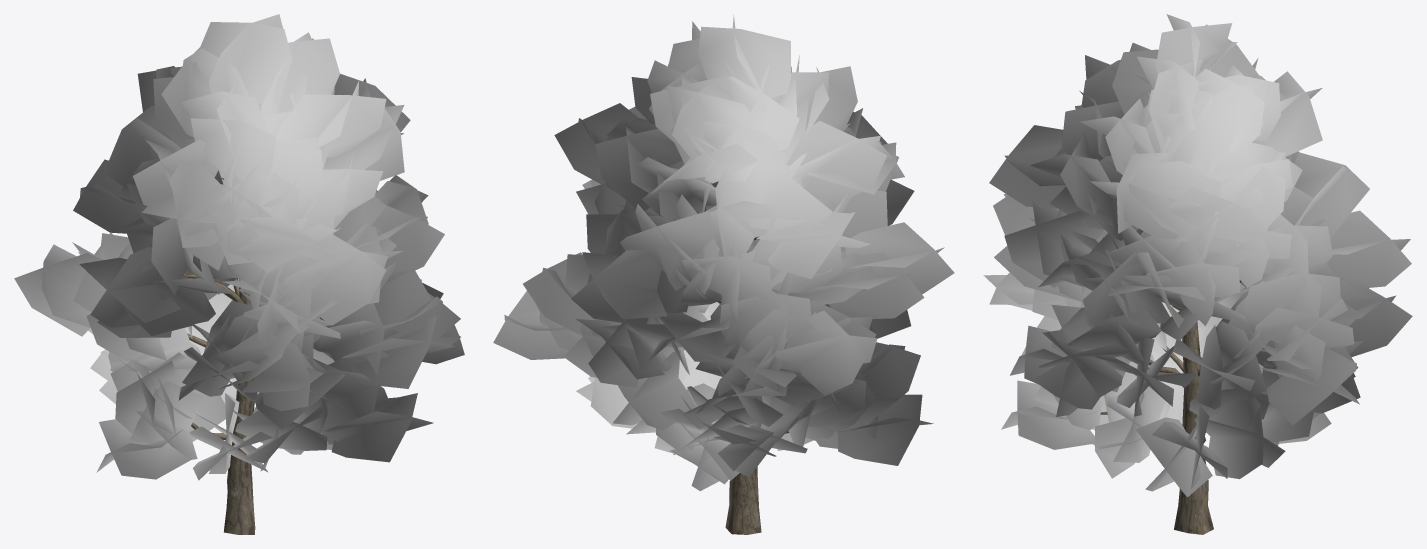
File: SM_Com_Tre_19AM.fbx
The picture shows the model from 3 angles, left to right: view 1: azimuth 30°, elevation 25°; view 2: azimuth 150°, elevation 25°; view 3: azimuth 270°, elevation 25°; orthographic projection. The views are drawn at different scales.
Parts seen in each view (by area): view 1: SM_Com_Tre_19AM.mo; view 2: SM_Com_Tre_19AM.mo; view 3: SM_Com_Tre_19AM.mo.
Boxes of the visible parts, x1,y1,x2,y2 form: SM_Com_Tre_19AM.mo: (14,14,464,534); SM_Com_Tre_19AM.mo: (493,14,954,534); SM_Com_Tre_19AM.mo: (983,14,1412,534).
Bounding box in the file's own units: 4.24 × 5.68 × 4.34.
